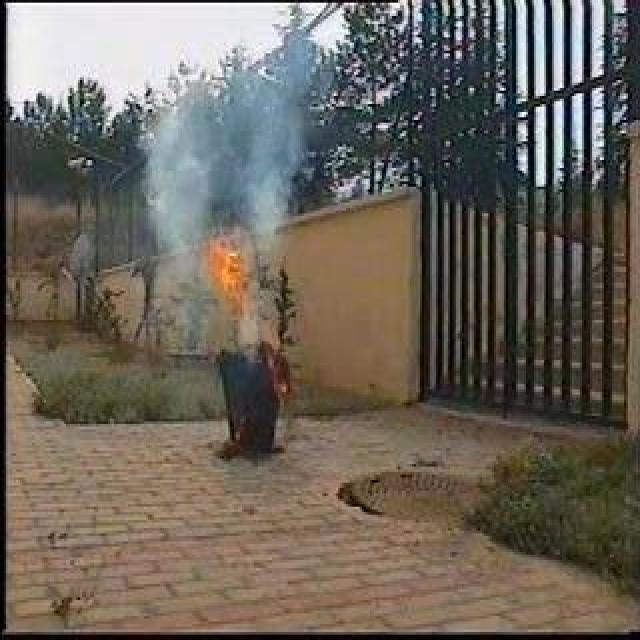fire: (209, 242, 257, 306)
smoke: (151, 81, 303, 239)
